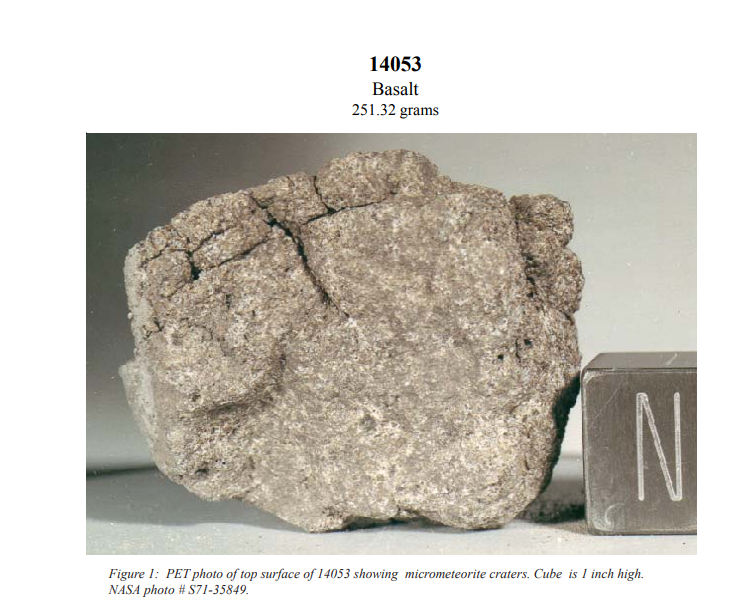Basalt: (87, 131, 582, 536)
